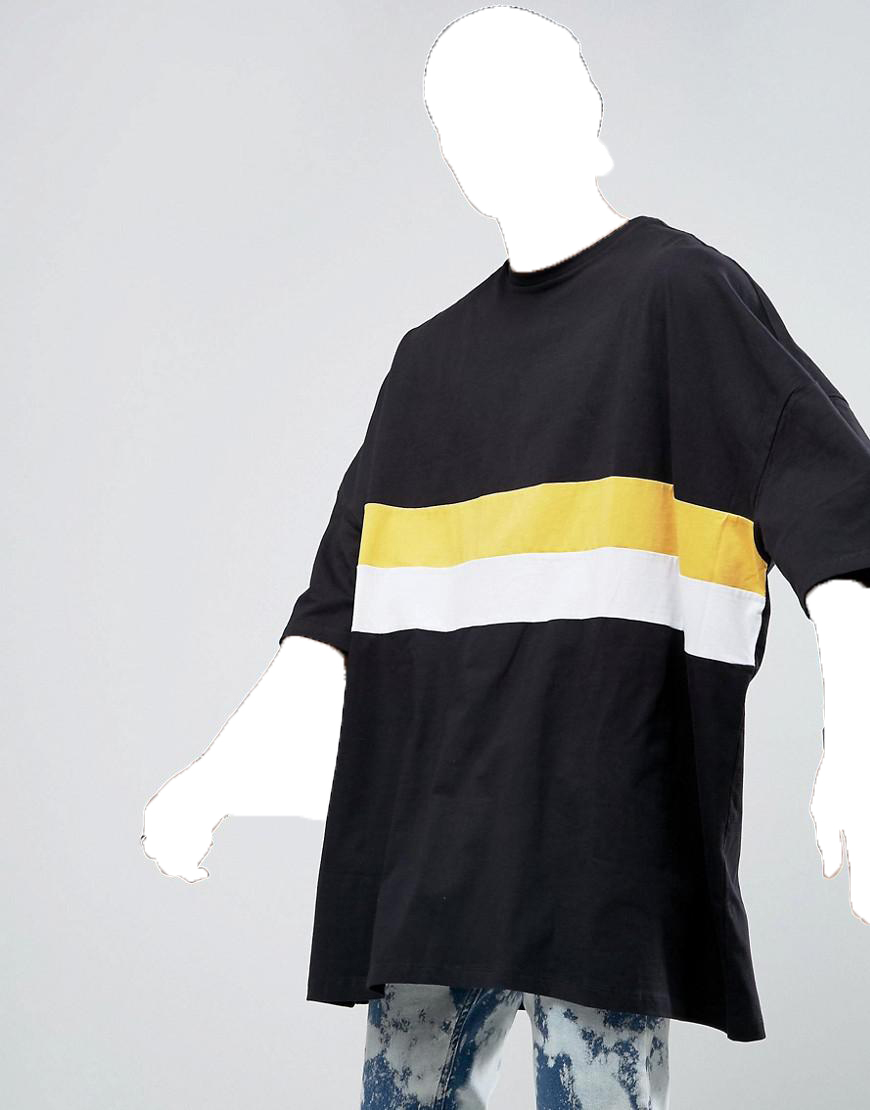teeshirt: (261, 213, 869, 1057)
